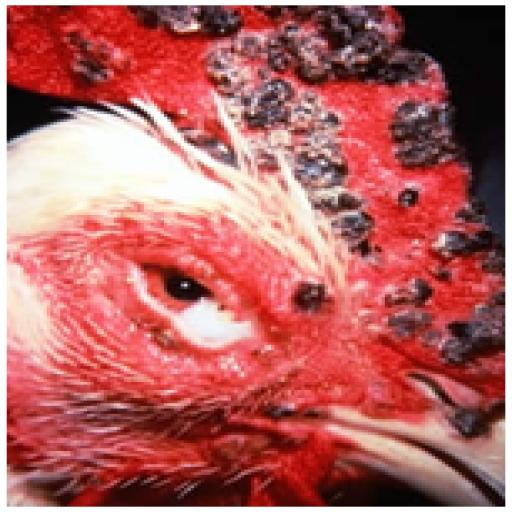disease: (193, 48, 480, 290), (64, 233, 320, 386), (122, 6, 468, 86), (354, 296, 512, 440), (23, 19, 138, 95)
